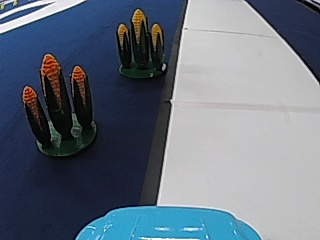corn: (22, 51, 99, 157), (113, 5, 167, 78)
